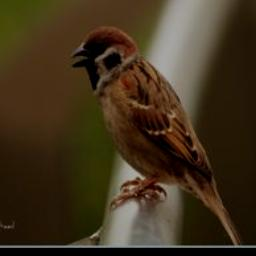Sparrow: (70, 25, 244, 245)
